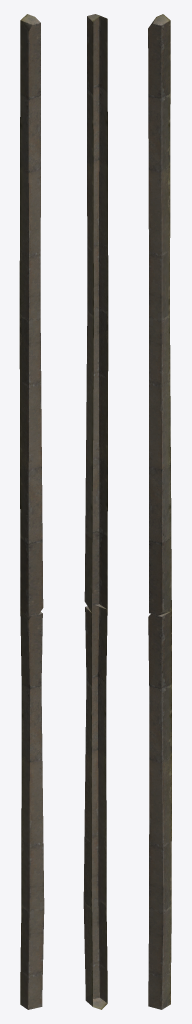
The model's file is border_20m_edge.glb.
3 renders of one model, left to right at view 1: azimuth 30°, elevation 25°; view 2: azimuth 210°, elevation 25°; view 3: azimuth 330°, elevation 25°, orthographic.
Visible parts, largest first — view 1: set_0_group_0; view 2: set_0_group_0; view 3: set_0_group_0.
Part boxes in pixels (x1=…): set_0_group_0: x1=19, y1=14, x2=44, y2=1009; set_0_group_0: x1=83, y1=14, x2=108, y2=1009; set_0_group_0: x1=148, y1=14, x2=171, y2=1009.
Bounding box in the file's own units: 0.3457 × 20.19 × 0.3118.
1 material, 1 textured.
